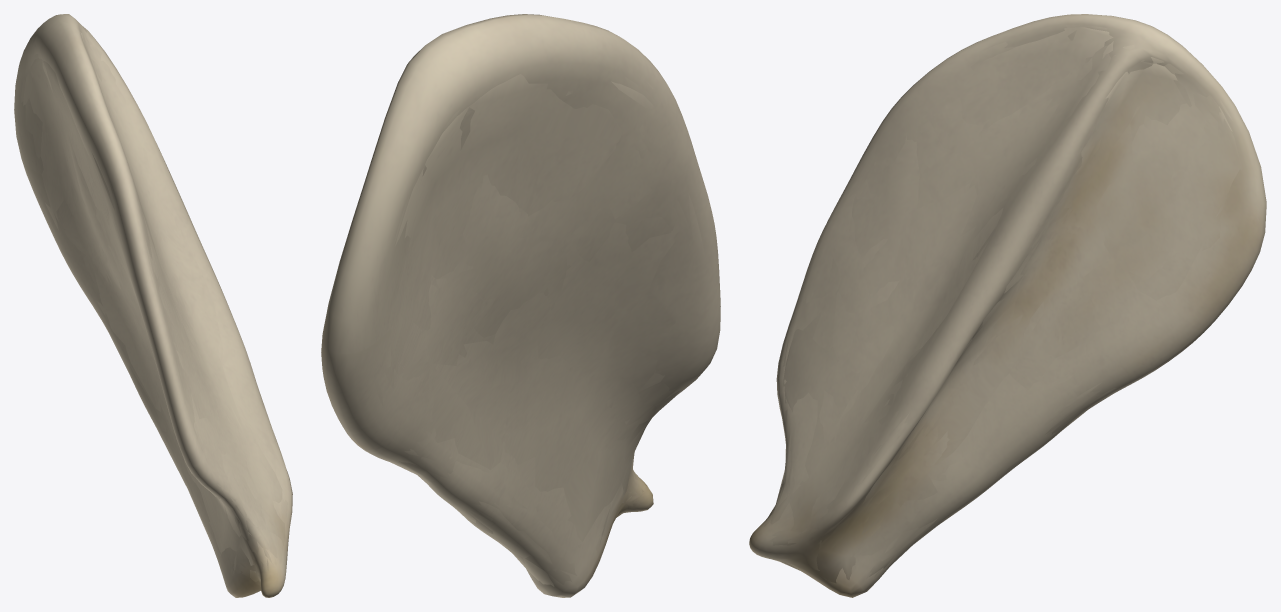
Rendered from L Scapula.fbx.
The picture shows the model from 3 angles, left to right: view 1: azimuth 30°, elevation 25°; view 2: azimuth 150°, elevation 25°; view 3: azimuth 270°, elevation 25°; orthographic projection. The views are drawn at different scales.
Parts seen in each view (by area): view 1: L Scapula high, L Scapula low, L Scapula; view 2: L Scapula high, L Scapula low, L Scapula; view 3: L Scapula high, L Scapula low, L Scapula.
Part boxes in pixels (x1,y1,x2,y2): L Scapula high: (14, 14, 292, 597); L Scapula low: (23, 26, 284, 581); L Scapula: (21, 31, 290, 592); L Scapula high: (321, 14, 720, 597); L Scapula low: (384, 74, 690, 586); L Scapula: (374, 77, 704, 584); L Scapula high: (749, 14, 1266, 597); L Scapula low: (763, 27, 1241, 583); L Scapula: (763, 25, 1242, 581).
Bounding box in the file's own units: 7.59 × 24.63 × 21.01.
1 material, 1 textured.
